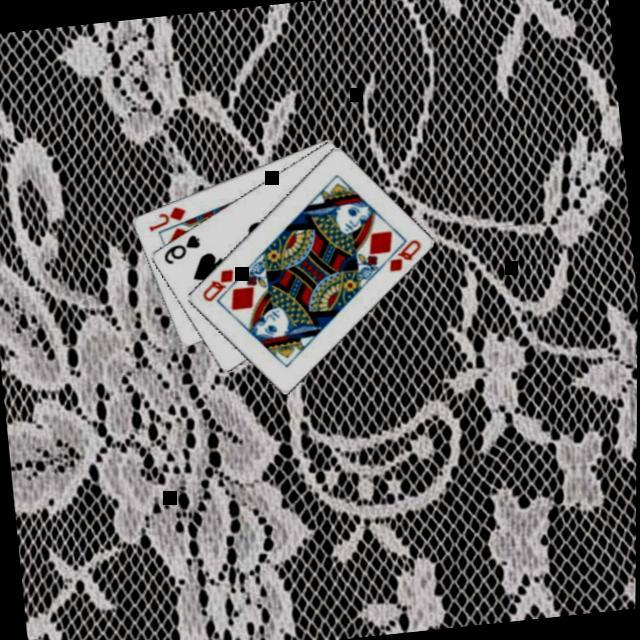6S: (156, 229, 203, 265)
JD: (142, 200, 189, 232)
QD: (381, 233, 425, 273), (195, 263, 238, 303)
